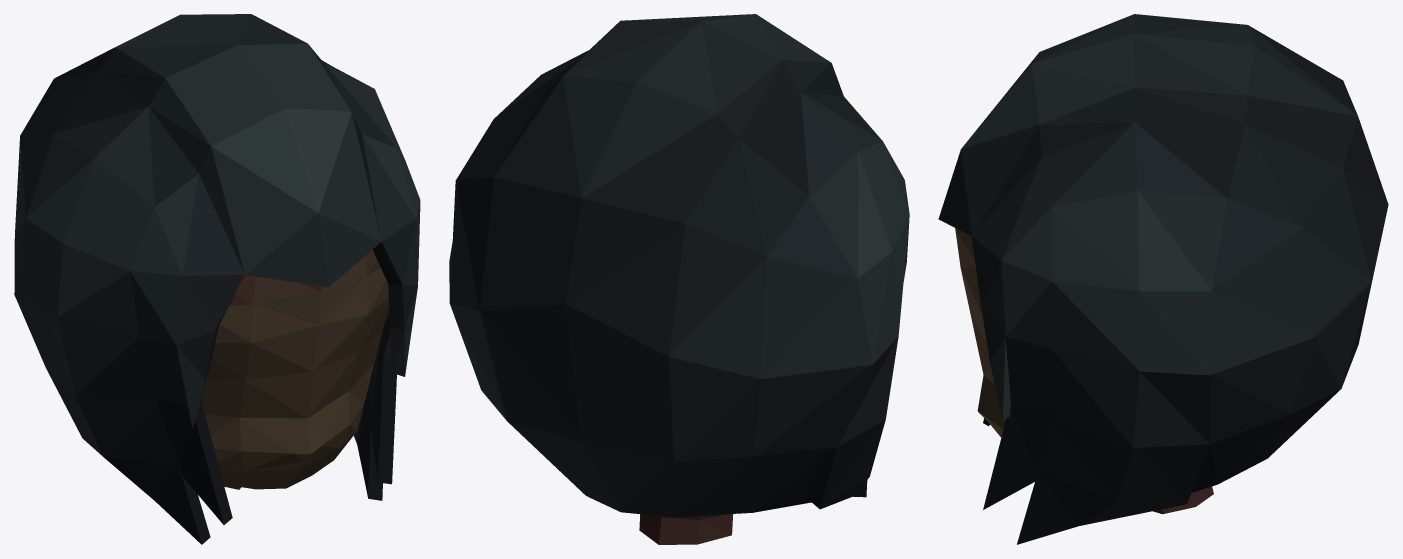
The model's file is helm_darkskin_bob_black.fbx.
3 views of the same model, side by side, from view 1: azimuth 30°, elevation 25°; view 2: azimuth 150°, elevation 25°; view 3: azimuth 270°, elevation 25° (orthographic). The views are drawn at different scales.
Visible parts, largest first — view 1: helm_darkskin_bob_black; view 2: helm_darkskin_bob_black; view 3: helm_darkskin_bob_black.
Part boxes in pixels (x1,y1,x2,y2): helm_darkskin_bob_black: [14, 14, 420, 544]; helm_darkskin_bob_black: [449, 14, 909, 544]; helm_darkskin_bob_black: [938, 14, 1388, 544].
Size of the model in its own units: 1.18 by 1.34 by 1.16.
